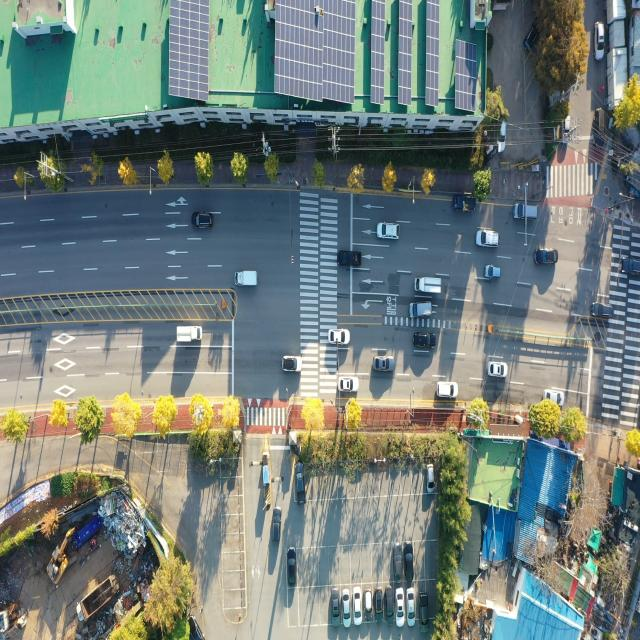car: (620, 253, 640, 280), (418, 590, 430, 631), (593, 108, 605, 146), (496, 120, 508, 158), (476, 230, 501, 248), (525, 23, 539, 53), (395, 587, 405, 629), (594, 21, 605, 59), (536, 250, 559, 268), (512, 204, 536, 221), (378, 221, 400, 239), (414, 334, 437, 351), (339, 253, 362, 270), (273, 508, 283, 544), (411, 302, 433, 318), (329, 330, 351, 346), (590, 302, 612, 318), (282, 356, 302, 373), (295, 464, 304, 501), (374, 356, 396, 371), (393, 546, 402, 582), (438, 382, 458, 398), (192, 213, 212, 229), (543, 390, 563, 406), (406, 548, 415, 582), (385, 588, 394, 622), (288, 549, 296, 587), (339, 378, 359, 393), (560, 118, 571, 145), (407, 589, 415, 625), (331, 589, 339, 625), (354, 589, 362, 624), (376, 588, 384, 622), (364, 588, 372, 622), (488, 362, 507, 376), (343, 589, 350, 624), (486, 266, 501, 280), (427, 464, 434, 494)
medium_truck: (75, 576, 120, 623)
small_truck: (177, 328, 204, 346), (416, 277, 442, 295), (236, 270, 259, 288), (453, 196, 475, 214)
